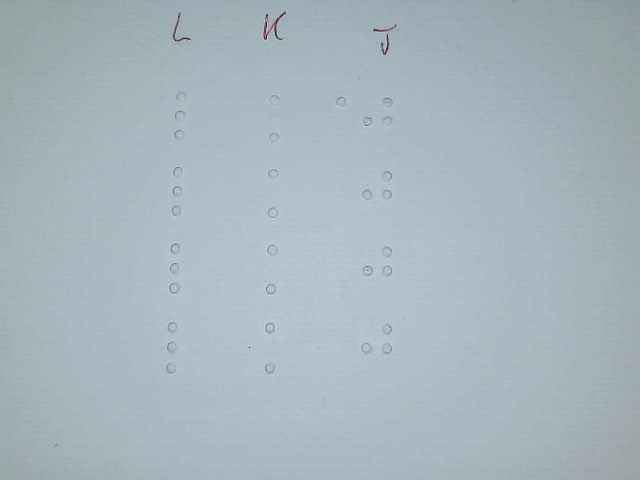J: (358, 89, 396, 142), (357, 160, 395, 213), (358, 236, 396, 289), (357, 315, 395, 368)
K: (261, 93, 299, 146), (259, 166, 297, 219), (258, 242, 296, 295), (257, 321, 295, 374)
L: (166, 89, 204, 142), (164, 164, 202, 217), (161, 241, 199, 294), (159, 320, 197, 373)
